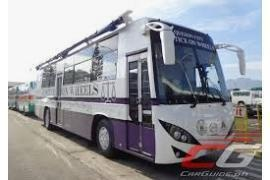bus: (36, 16, 241, 166)
